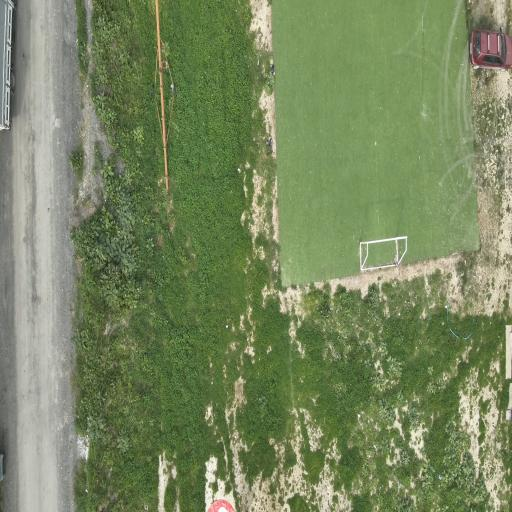UAI: (208, 500, 234, 511)
car: (0, 0, 14, 129), (470, 30, 511, 71)
